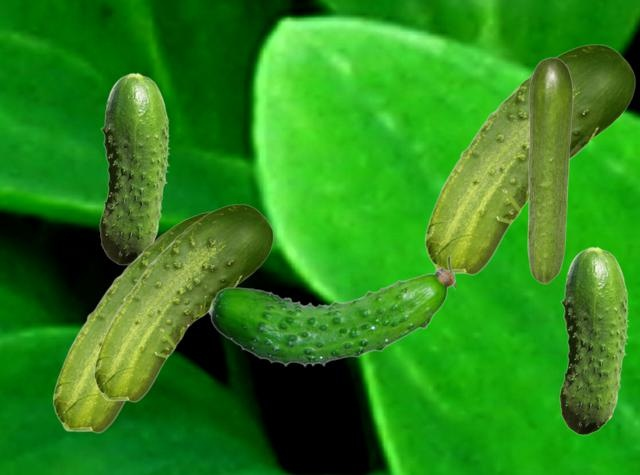cucumber: (424, 44, 634, 274), (93, 204, 272, 401), (52, 211, 210, 432), (207, 255, 454, 366), (99, 72, 169, 264), (559, 246, 628, 434), (527, 57, 572, 283)
